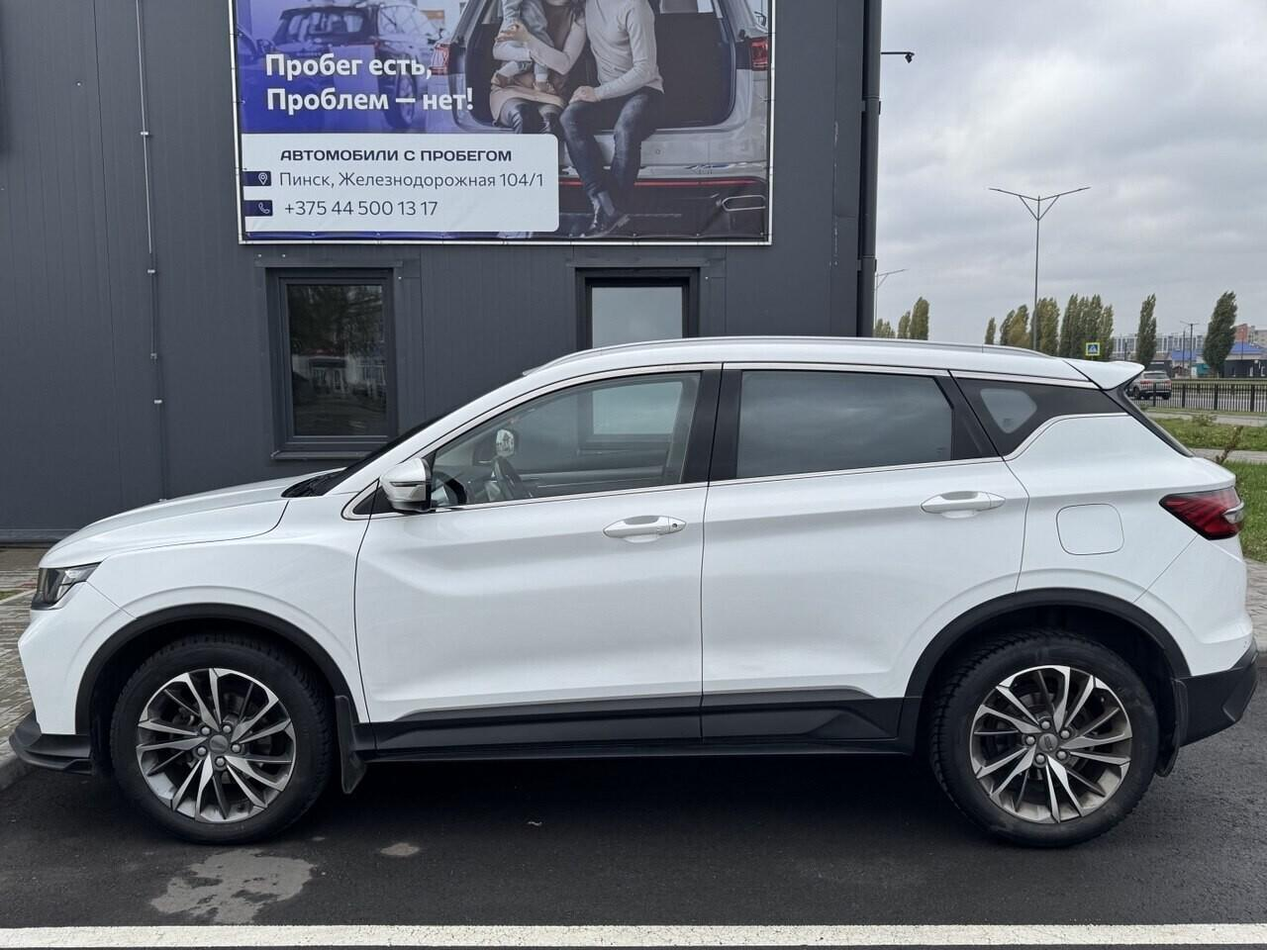Coolray_2019-2023: (10, 329, 1263, 867)
